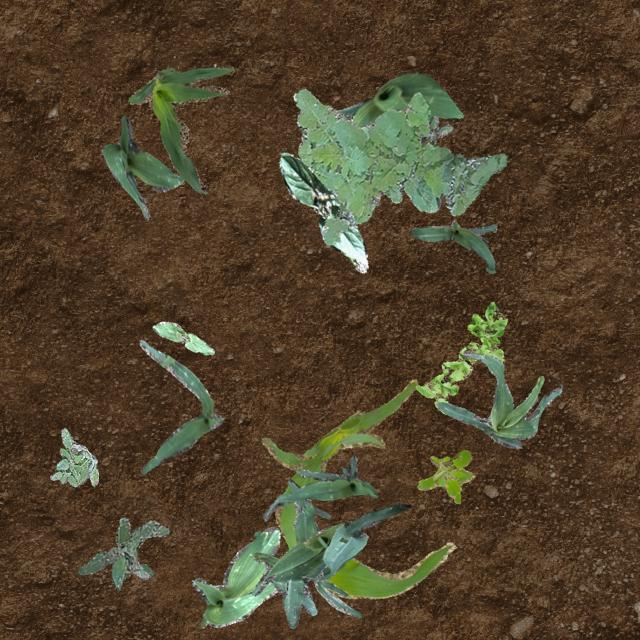crop: (260, 378, 454, 598), (252, 502, 411, 628), (128, 63, 234, 194), (436, 350, 560, 448), (138, 338, 222, 472), (278, 152, 366, 272), (286, 478, 361, 616), (190, 526, 278, 626), (100, 114, 184, 218), (262, 454, 376, 520), (338, 70, 462, 126), (410, 220, 496, 272), (152, 321, 214, 354)
weed: (292, 88, 506, 244), (414, 300, 506, 406), (76, 516, 168, 588), (416, 448, 474, 502), (48, 428, 98, 486), (418, 115, 452, 146), (106, 556, 154, 576)
